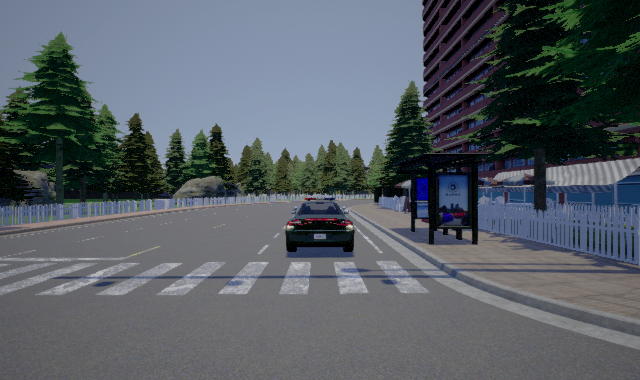vehicle: (285, 198, 355, 252)
